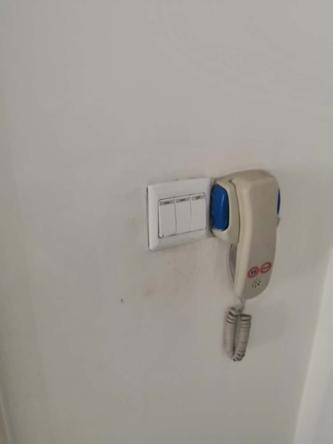switch: (172, 195, 195, 236), (155, 195, 176, 239), (191, 191, 210, 236)
